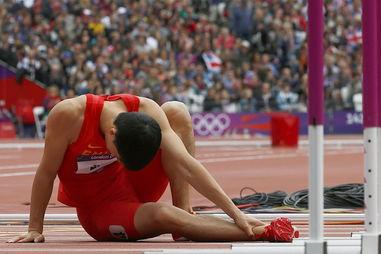bending: (6, 92, 304, 243)
